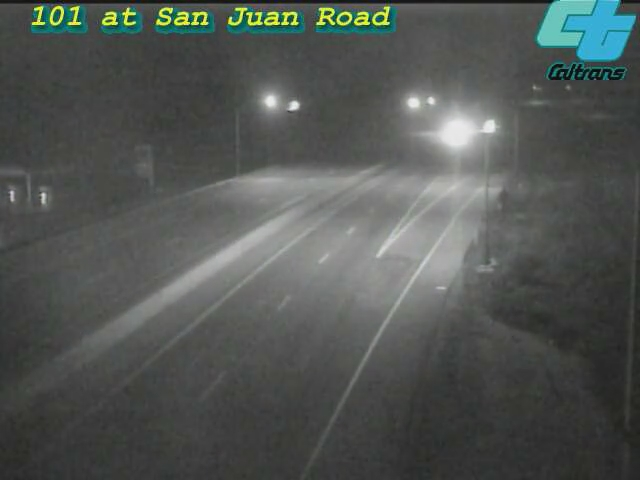vehicle: (432, 107, 482, 157), (464, 102, 514, 152)
